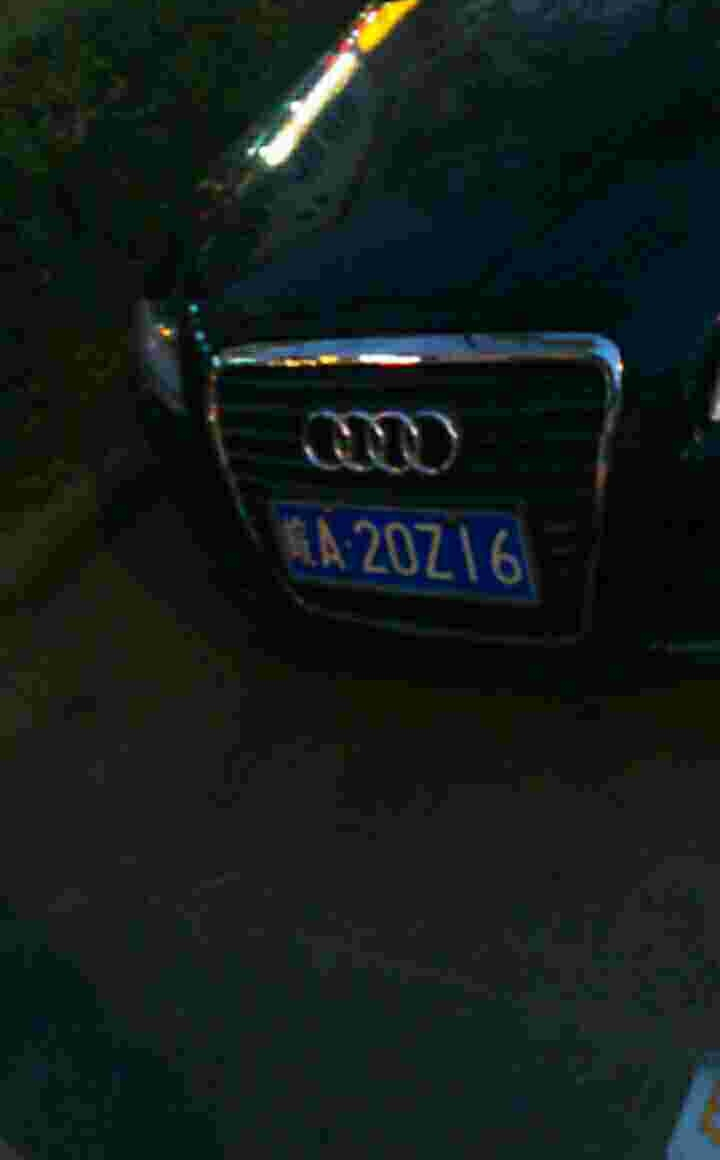license_plate: (276, 504, 552, 605)
